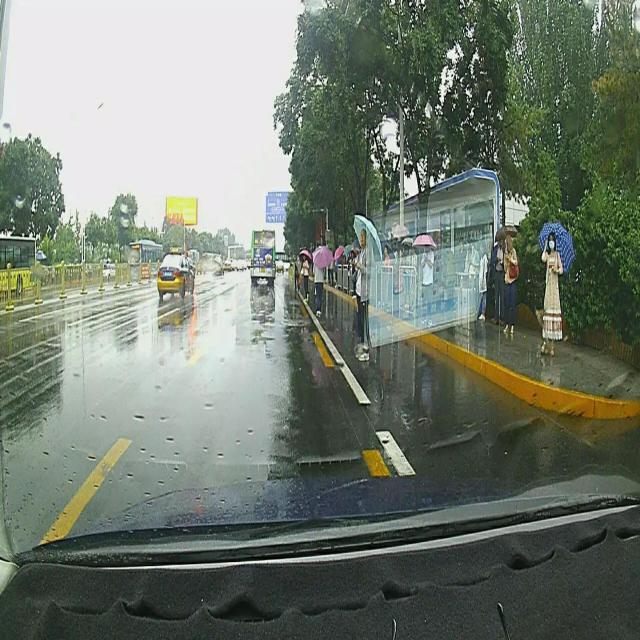car: (157, 248, 196, 297), (101, 262, 117, 282), (224, 257, 234, 273), (214, 262, 224, 275)
